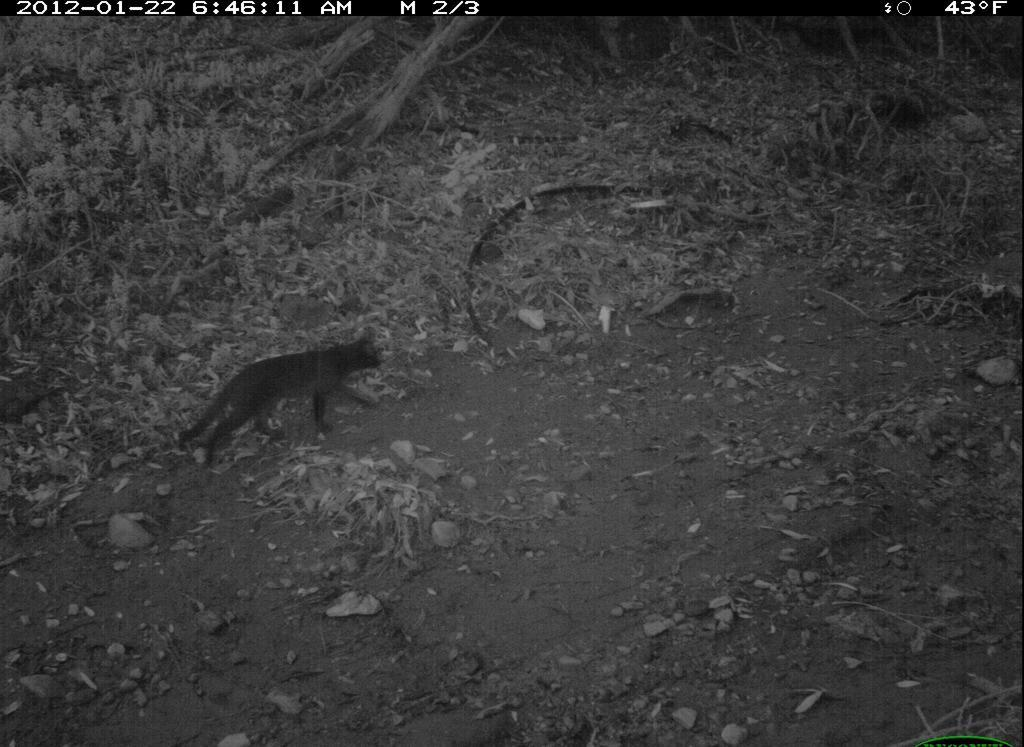cat: (171, 321, 401, 479)
